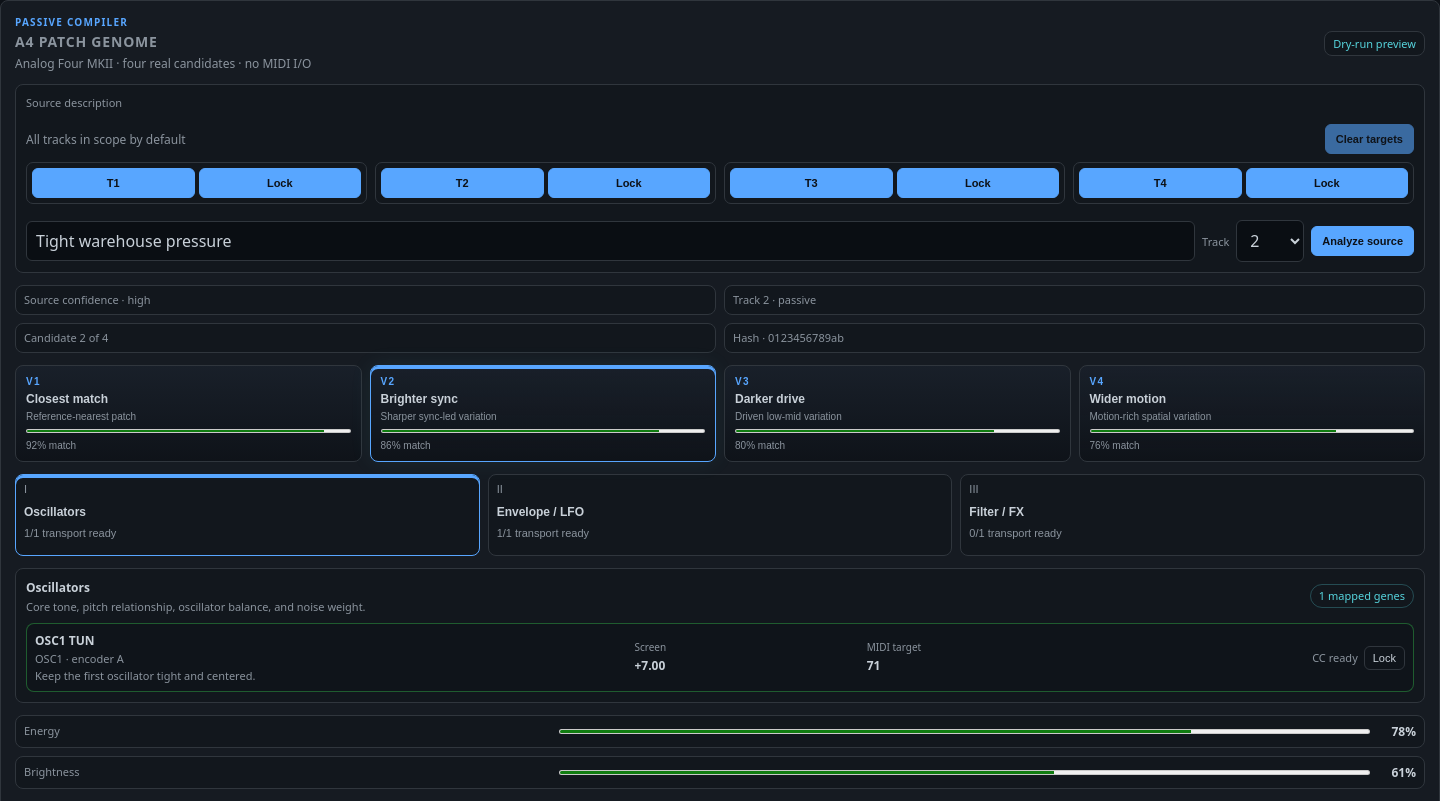
Test: PatchGenomePanel › switches mapped families and keeps gene locks local
Step 1. Click the tab with test id "patch-genome-family-filter_fx" → click(997, 512), box [960, 474, 1425, 556]
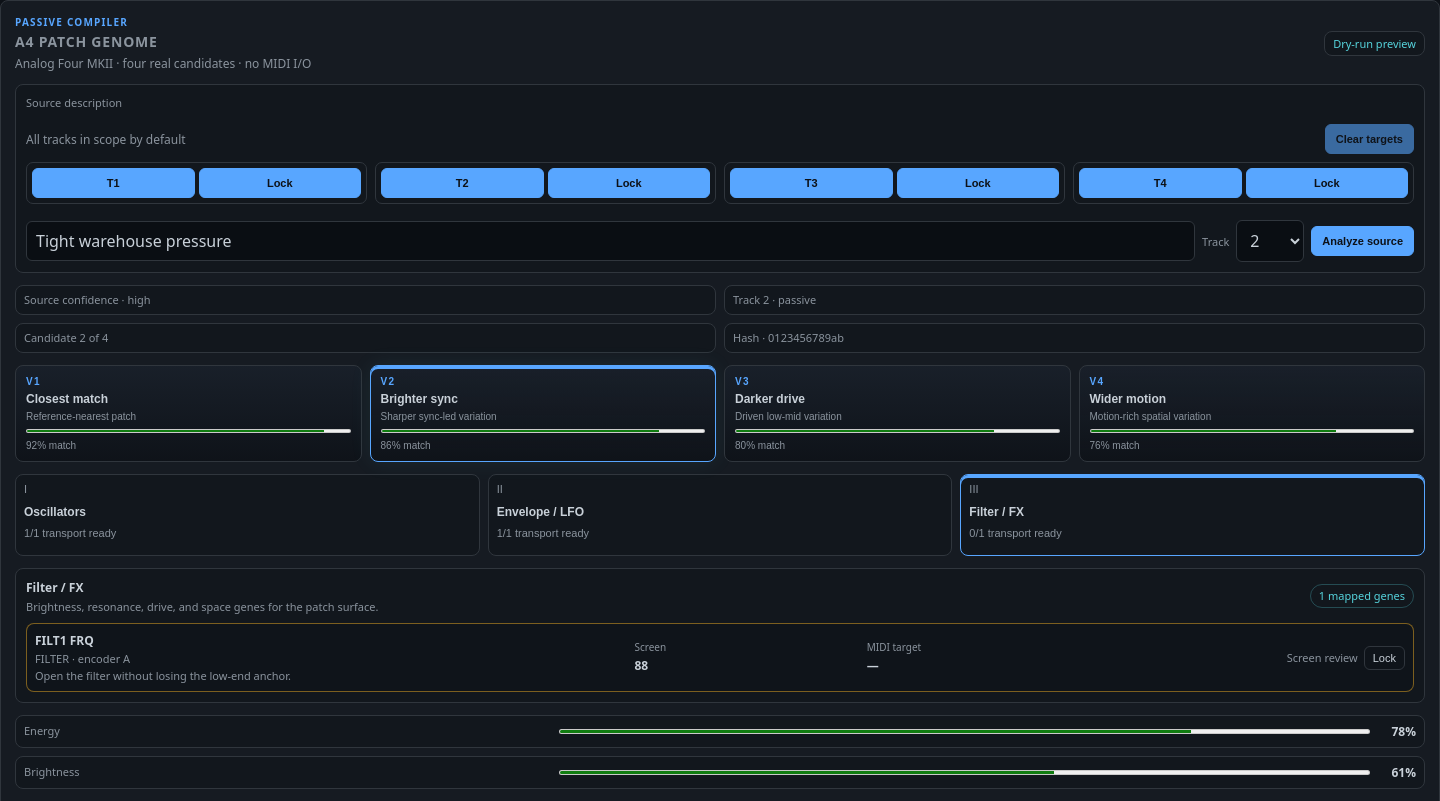
Now the element with test id "patch-genome-selected-family" shows "Filter / FX", box [26, 578, 84, 596]
Now the element with test id "patch-genome-gene-2-filter-a-filt1-frq" shows "FILT1 FRQ", box [35, 632, 94, 649]
Now the element with test id "patch-genome-gene-2-filter-a-filt1-frq" shows "Screen review", box [1287, 650, 1358, 665]
Step 2. Click the button with aria-label "lock filt1 frq" → click(1384, 658), box [1364, 646, 1405, 670]
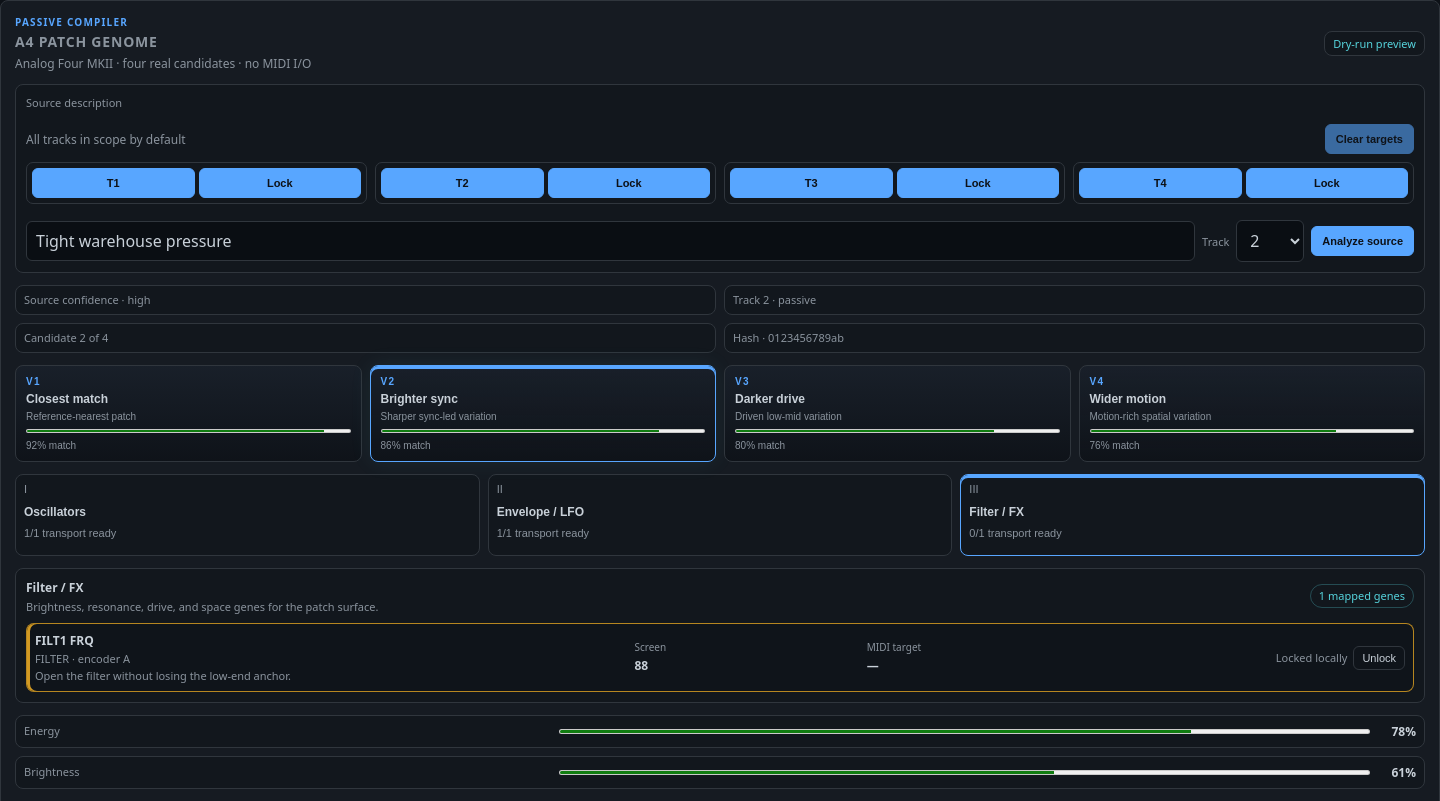
Now the element with test id "patch-genome-gene-2-filter-a-filt1-frq" shows "Locked locally", box [1276, 650, 1347, 665]
Step 3. Click the button with aria-label "unlock filt1 frq" → click(1379, 658), box [1353, 646, 1405, 670]
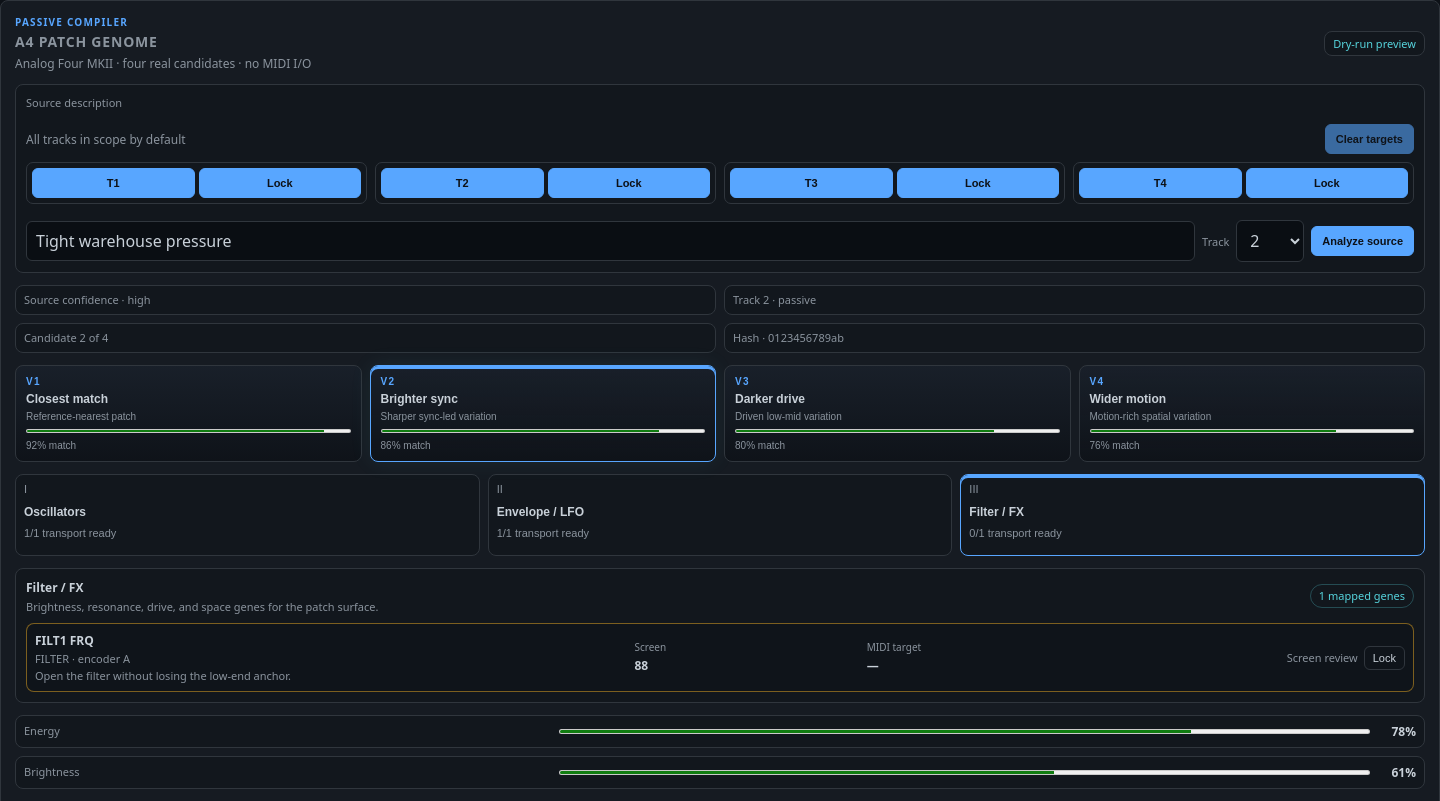
Now the element with test id "patch-genome-gene-2-filter-a-filt1-frq" shows "Screen review", box [1287, 650, 1358, 665]
